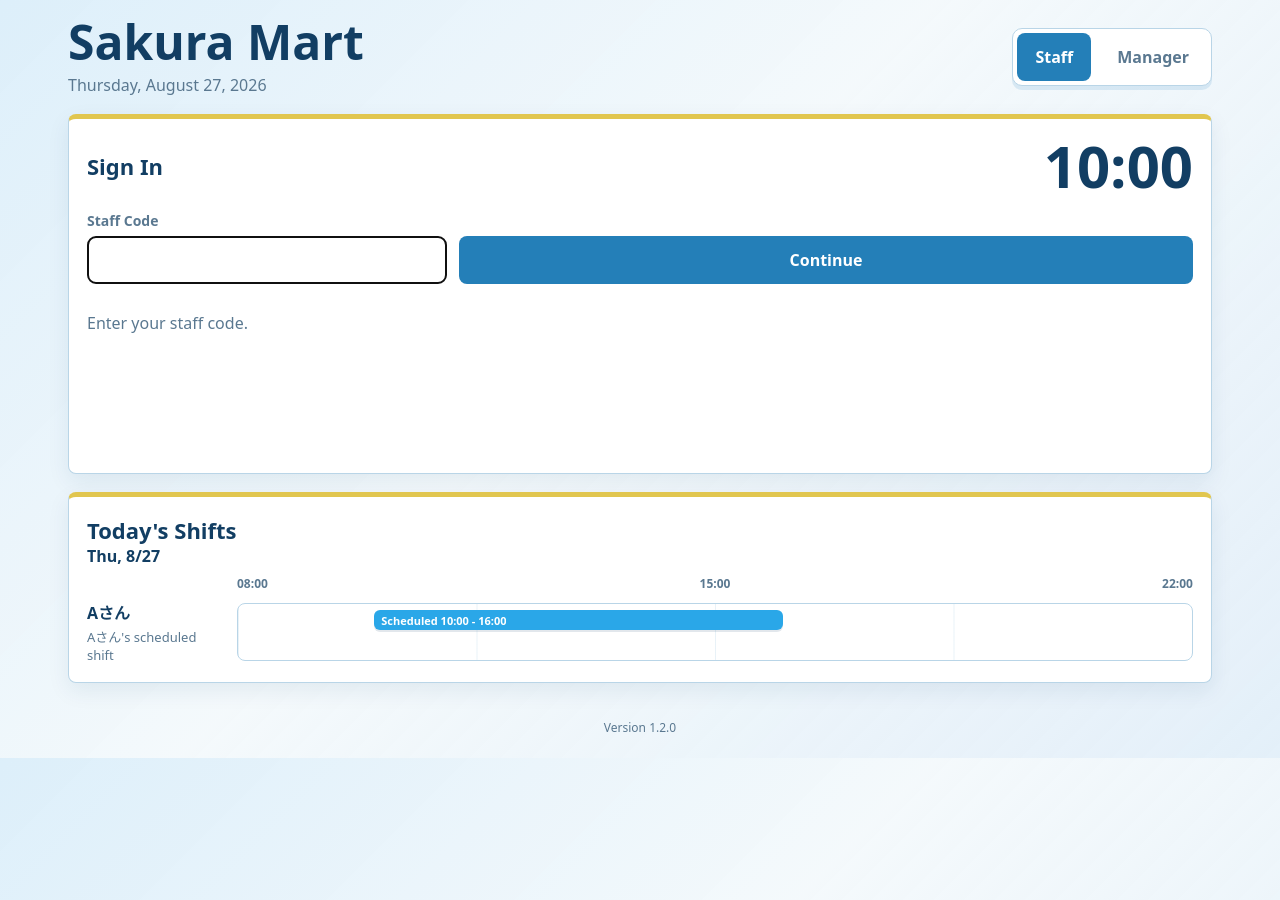
Test: App › returns to a neutral screen after sign in
In the field labelled "Staff Code": (267, 260) [87,236,447,284], type "12345"
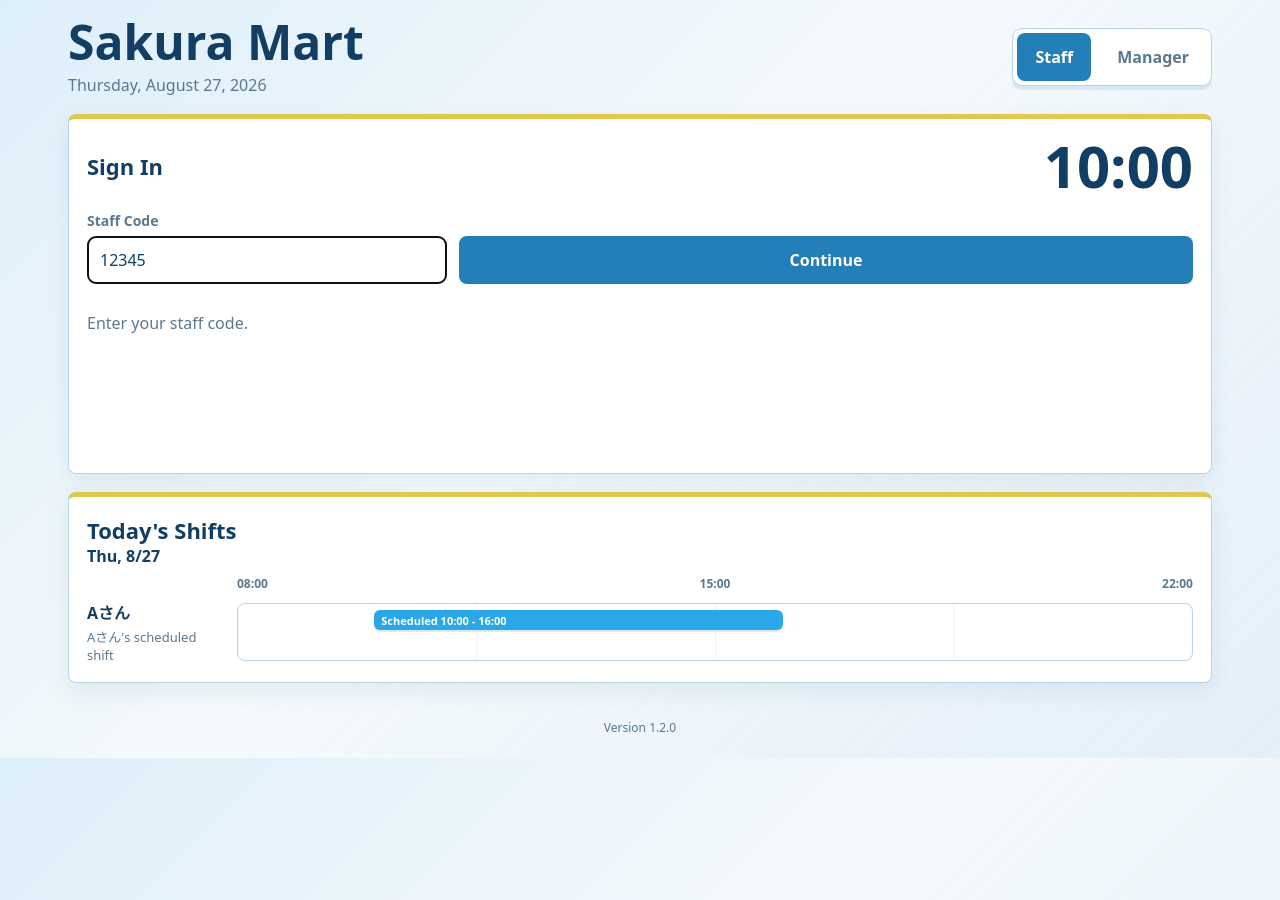
Click the button "Continue": (826, 260) [459,236,1193,284]
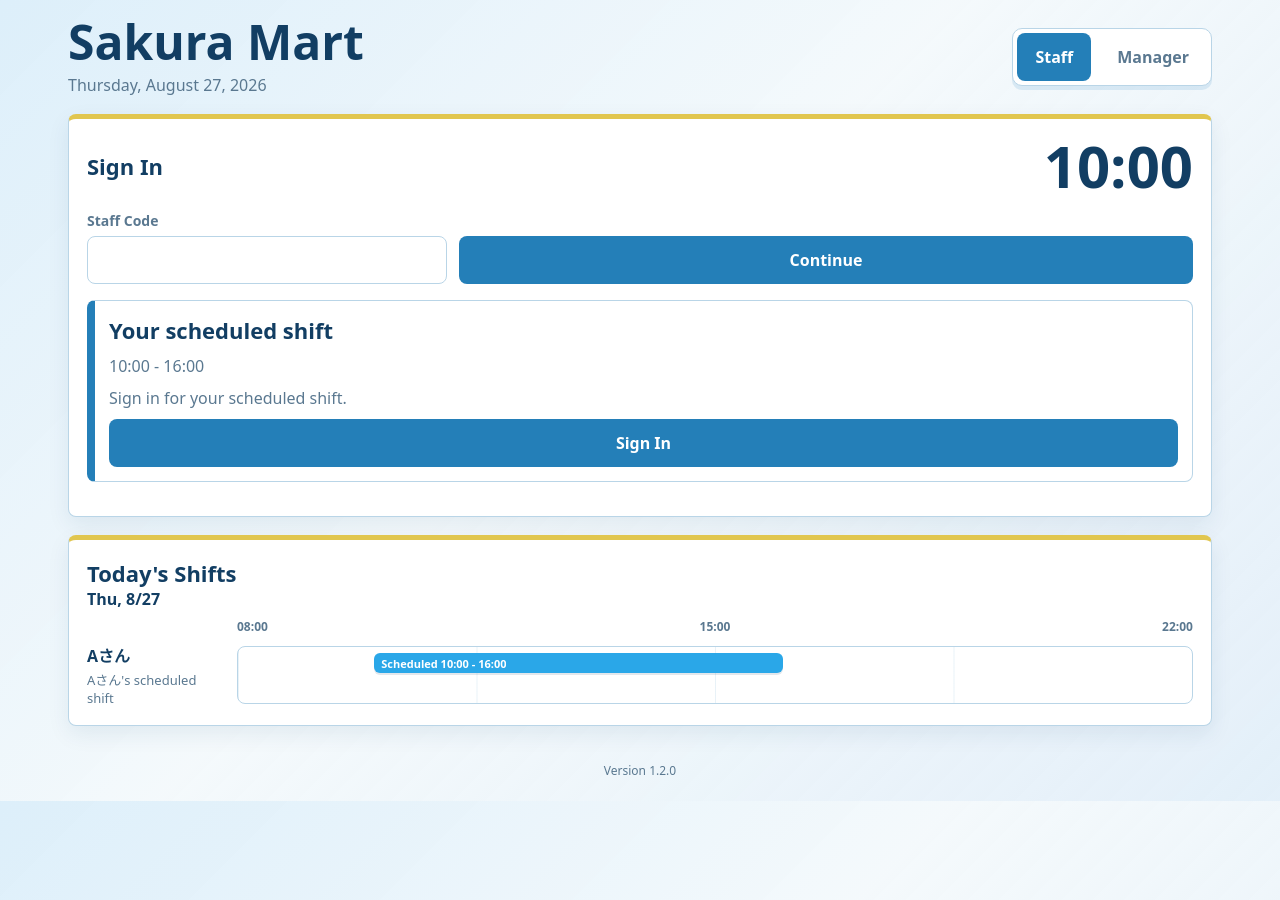
Click the button "Sign In": (644, 443) [109,419,1178,467]
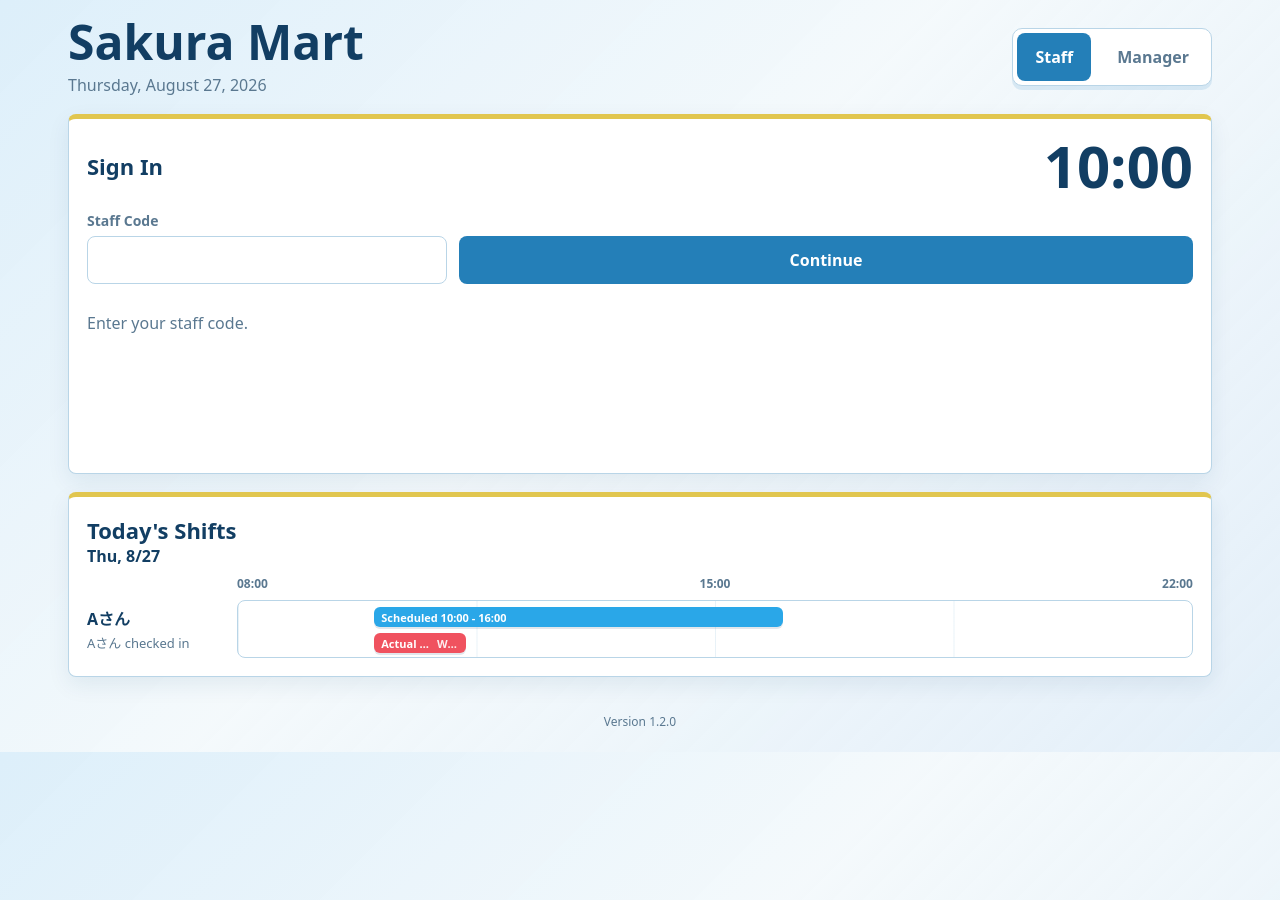
Check: the text "Enter your staff code." is shown, box [87,312,248,334]
